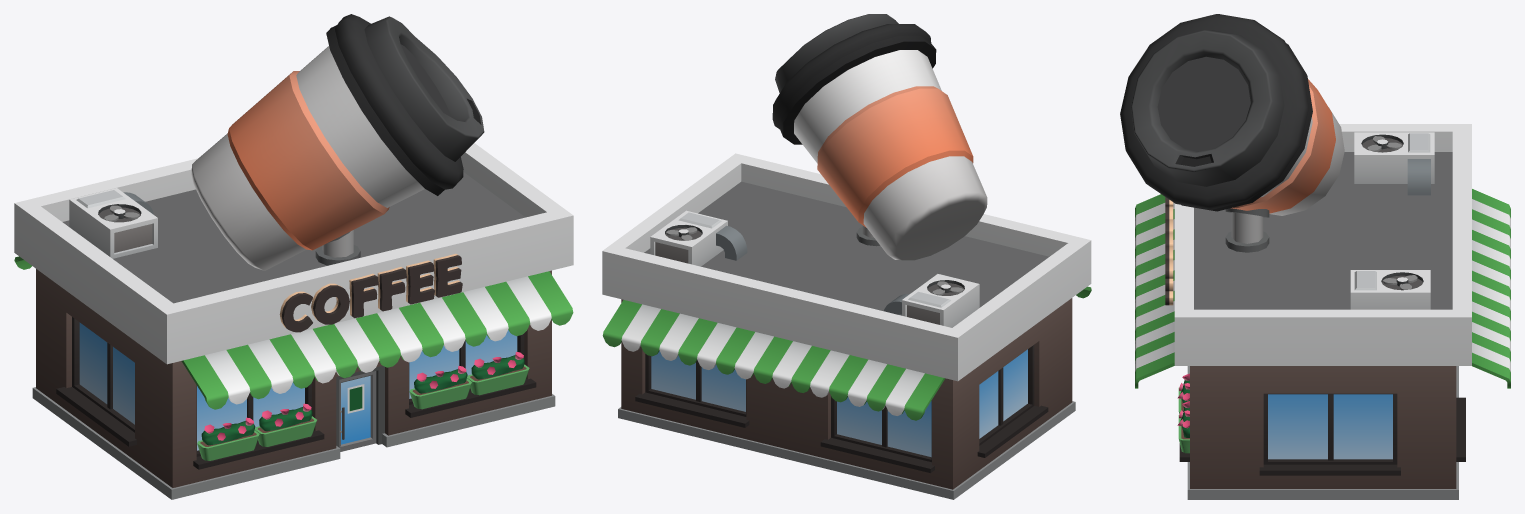
File: coffee_shop_001.glb
The picture shows the model from 3 angles, left to right: view 1: azimuth 30°, elevation 25°; view 2: azimuth 150°, elevation 25°; view 3: azimuth 270°, elevation 25°; orthographic projection. The views are drawn at different scales.
Parts seen in each view (by area): view 1: coffee_shop_001; view 2: coffee_shop_001; view 3: coffee_shop_001.
Boxes of the visible parts, bbox=[...] form: coffee_shop_001: bbox=[14, 14, 573, 499]; coffee_shop_001: bbox=[602, 14, 1091, 499]; coffee_shop_001: bbox=[1120, 14, 1510, 499].
Size of the model in its own units: 12.54 by 11.97 by 10.71.
2 materials, 2 textured.
